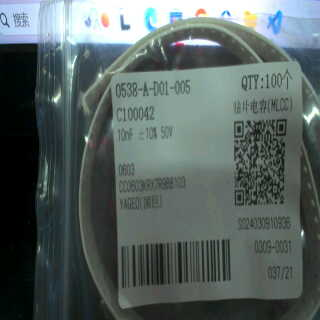10nF: (112, 126, 139, 146)
